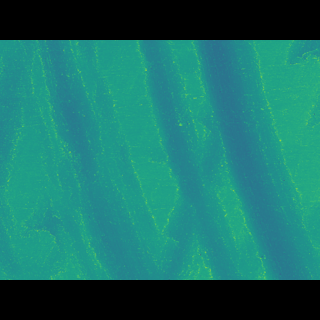Loch: (20, 69, 179, 251), (190, 69, 320, 250), (135, 70, 248, 250)
